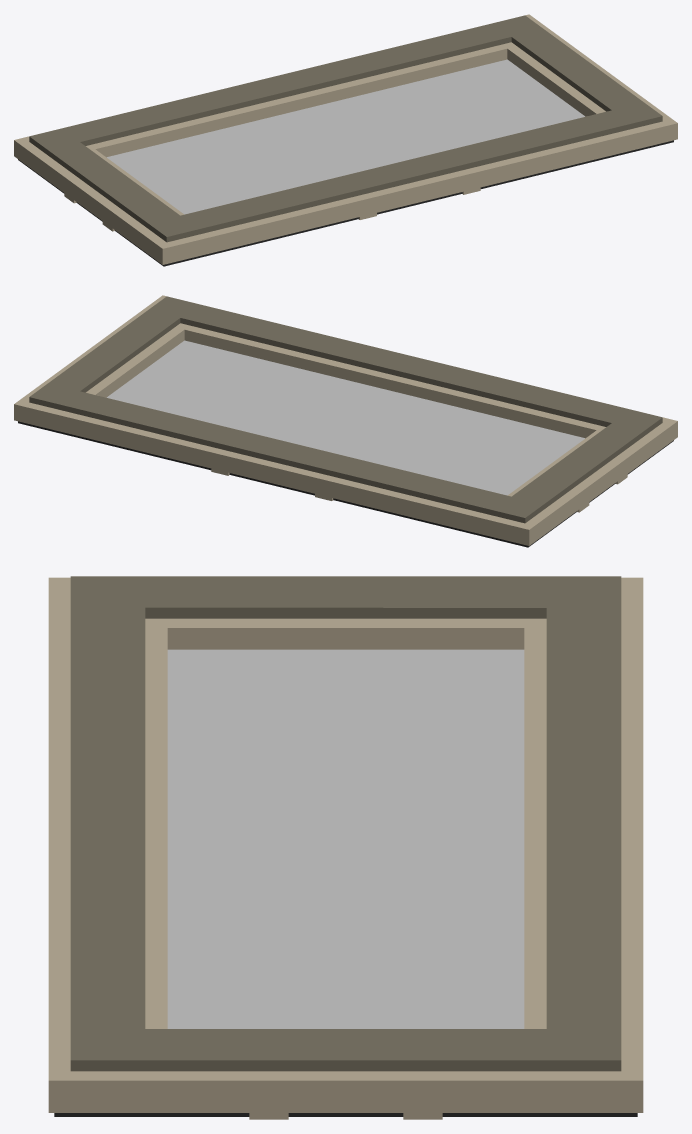
Rendered from Building_B_02_01.FBX.
3 views of the same model, one above another, from view 1: azimuth 30°, elevation 25°; view 2: azimuth 150°, elevation 25°; view 3: azimuth 270°, elevation 25° (orthographic). The views are drawn at different scales.
Parts seen in each view (by area): view 1: Building_B_02_01; view 2: Building_B_02_01; view 3: Building_B_02_01.
Boxes of the visible parts, box(x1,y1,x2,y2) form: Building_B_02_01: box(14, 14, 677, 266); Building_B_02_01: box(14, 295, 677, 547); Building_B_02_01: box(48, 576, 643, 1119).
Size of the model in its own units: 10 by 0.4615 by 5.
